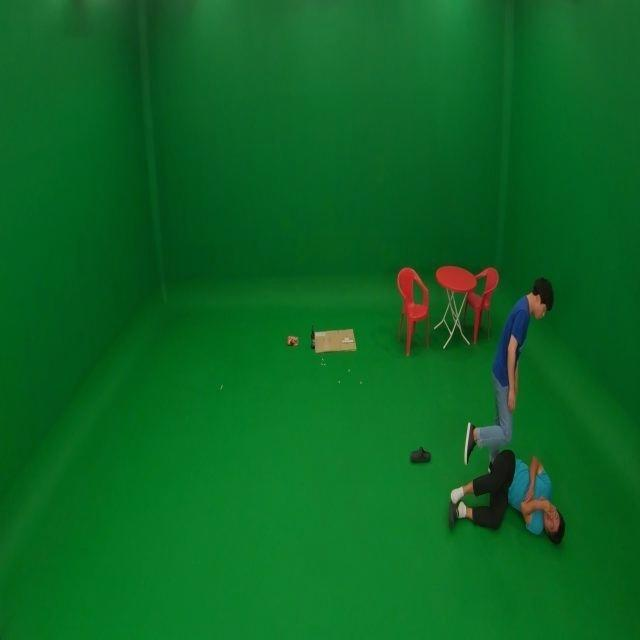fight: (447, 271, 575, 546)
